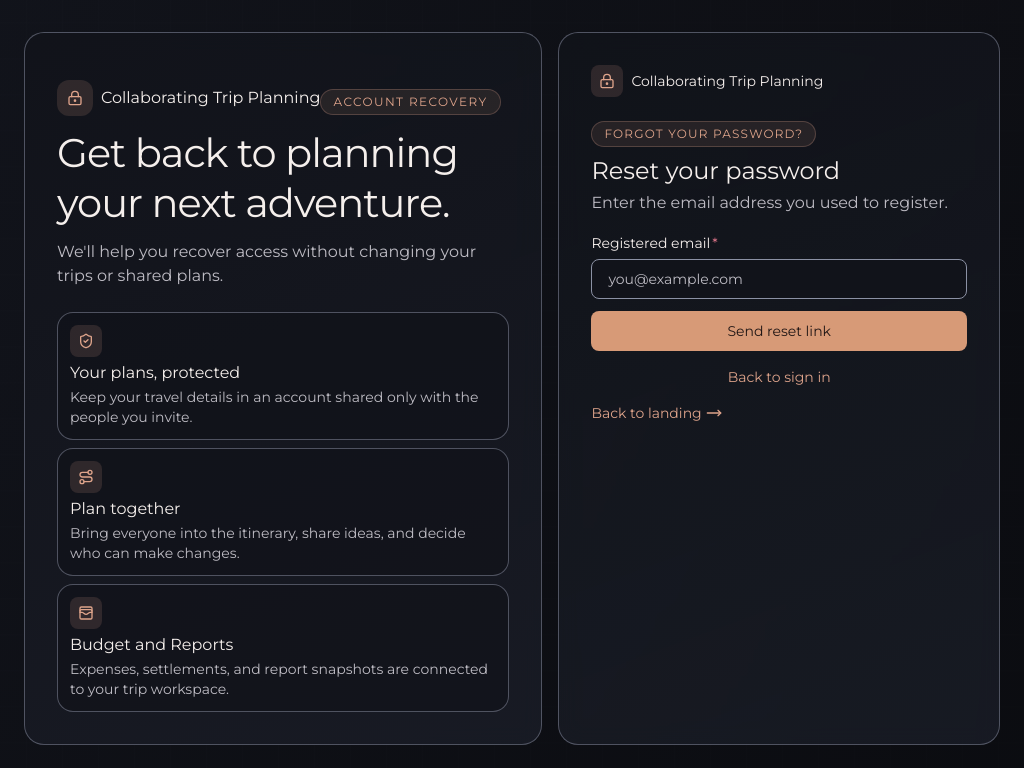
Test: requests a reset and displays an enumeration-safe confirmation
The width and height of the screenshot is (1024, 768).
Type "person@example.com" into the field labelled "Registered email".
click(779, 279); type("person@example.com")  # box [591,259,967,299]
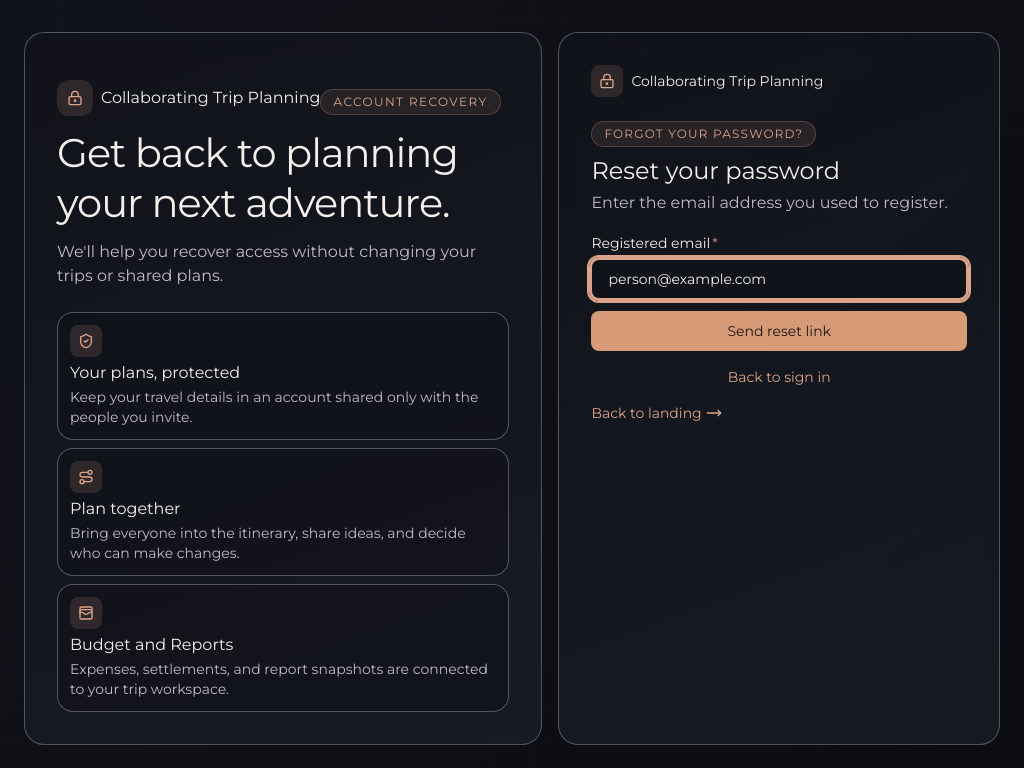
Click the button "Send reset link".
click(779, 331)  # box [591,311,967,351]
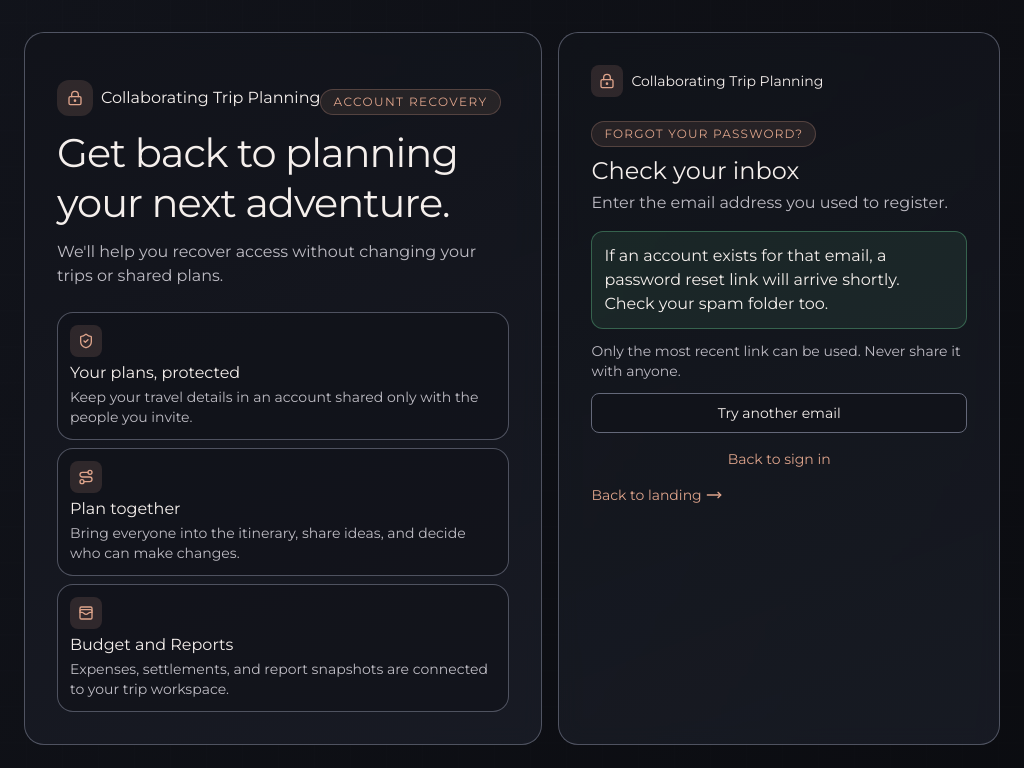
Check: the message shows "If an account exists", box [604,246,900,313]
